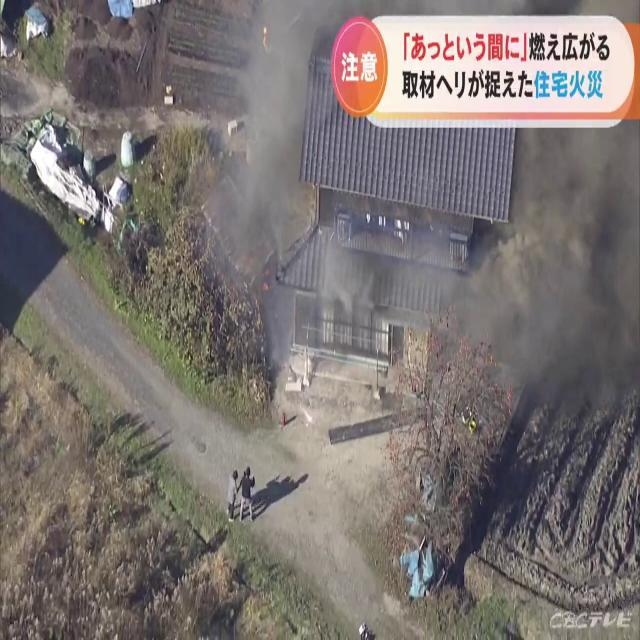Smoke: (419, 124, 640, 462), (202, 1, 320, 344)
